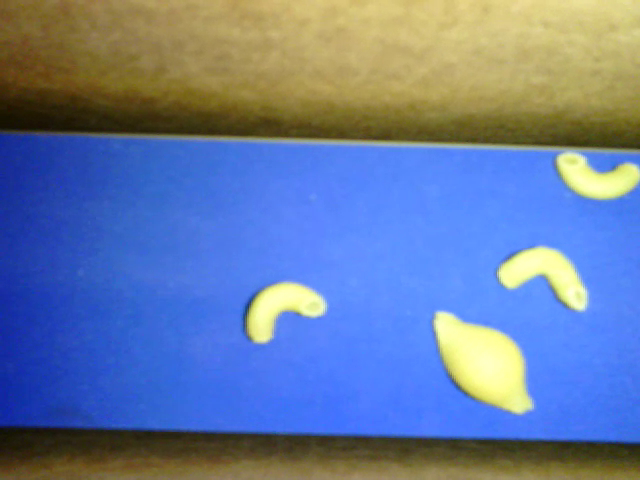elbow: (497, 245, 587, 311), (244, 280, 327, 344), (555, 151, 639, 200)
shell: (431, 309, 535, 416)
